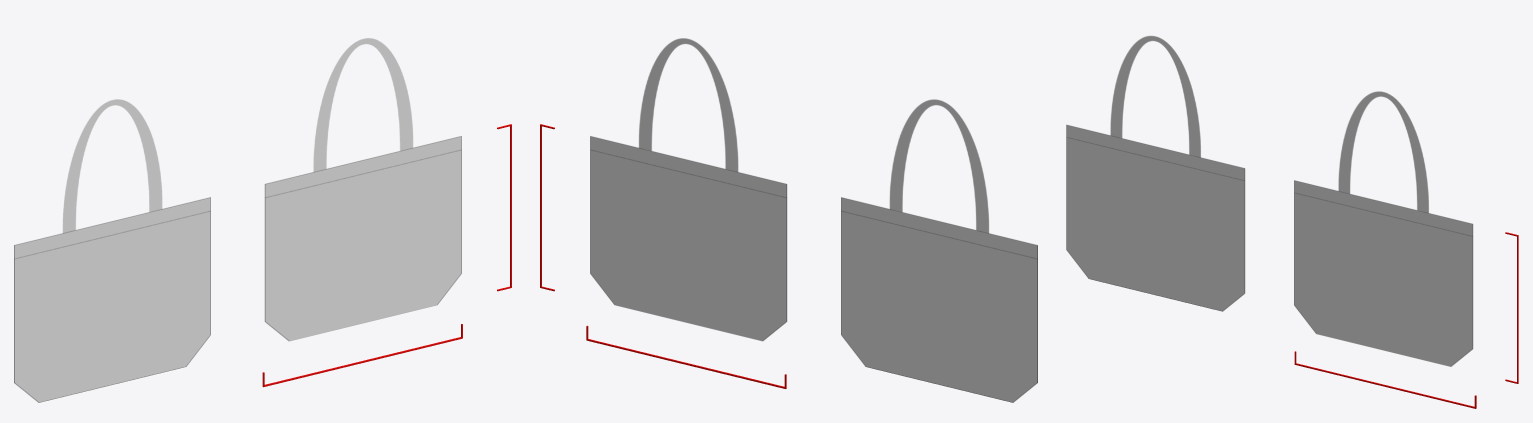
Rendered from 无纺布袋-有底无侧.glb.
The picture shows the model from 3 angles, left to right: view 1: azimuth 30°, elevation 25°; view 2: azimuth 150°, elevation 25°; view 3: azimuth 330°, elevation 25°; orthographic projection. The views are drawn at different scales.
Parts seen in each view (by area): view 1: bag, w; view 2: bag, w; view 3: bag, w.
Boxes of the visible parts, x1,y1,x2,y2 form: bag: (14, 38, 461, 402); w: (262, 324, 462, 387); bag: (590, 38, 1037, 402); w: (586, 325, 786, 388); bag: (1066, 36, 1473, 366); w: (1294, 351, 1476, 408).
Bounding box in the file's own units: 0.7423 × 0.464 × 0.00545.
2 materials, 1 textured.
